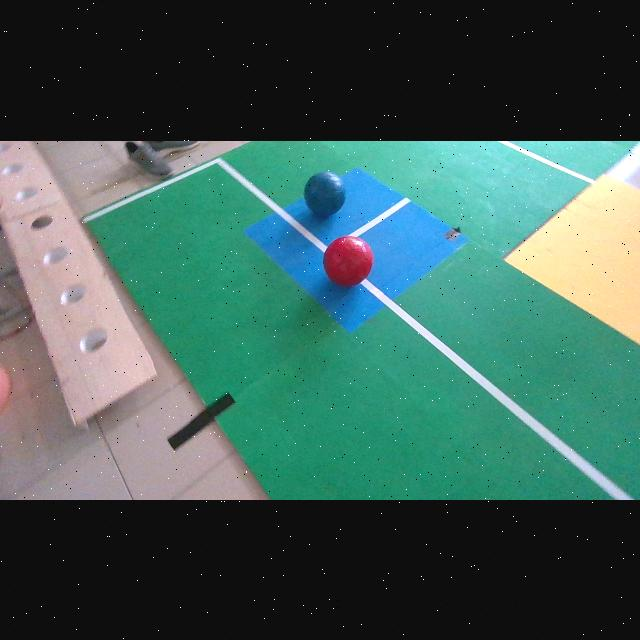B: (304, 170, 346, 216)
R: (323, 235, 373, 286)
